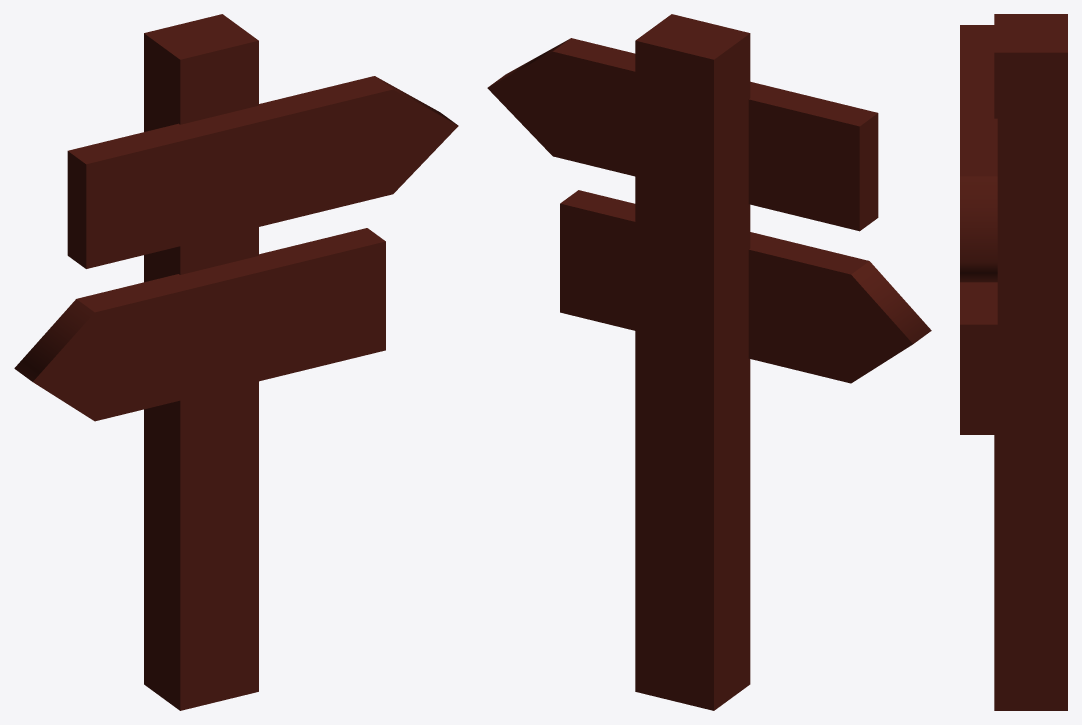
Rendered from sign_l_r.FBX.
The picture shows the model from 3 angles, left to right: view 1: azimuth 30°, elevation 25°; view 2: azimuth 150°, elevation 25°; view 3: azimuth 270°, elevation 25°; orthographic projection.
Parts seen in each view (by area): view 1: Box234, Box233, Box232; view 2: Box234, Box233, Box232; view 3: Box234, Box233, Box232.
Part boxes in pixels (box(x1,y1,x2,y2)): Box234: box(144, 14, 258, 710); Box233: box(67, 76, 458, 268); Box232: box(14, 228, 385, 421); Box234: box(635, 14, 750, 710); Box233: box(487, 38, 878, 231); Box232: box(560, 190, 931, 383); Box234: box(994, 14, 1067, 710); Box233: box(960, 25, 997, 282); Box232: box(960, 282, 997, 434).
Size of the model in its own units: 4.71 by 6.88 by 1.02.
